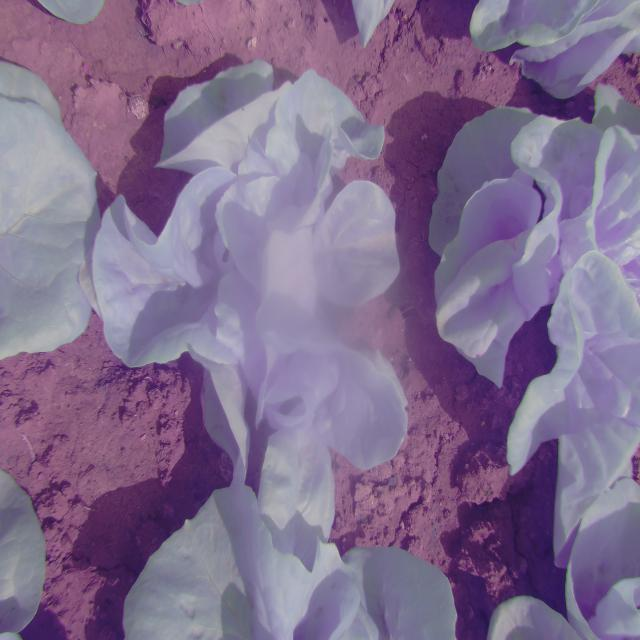vege: (94, 65, 412, 468)
